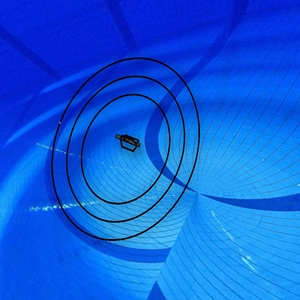circle: (49, 52, 207, 244)
submarine: (114, 132, 142, 158)
